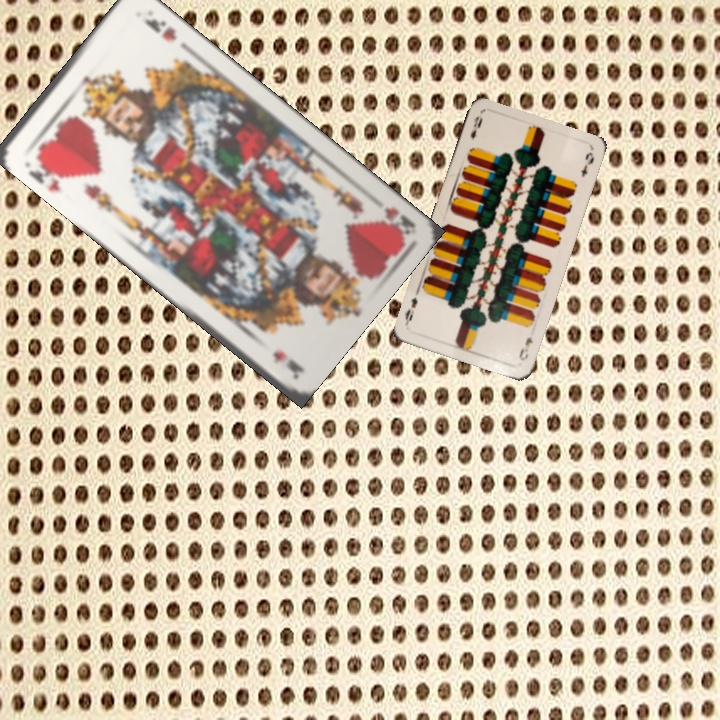E9: (515, 333, 535, 363), (466, 112, 485, 141)
HK: (24, 150, 71, 195), (377, 203, 417, 240)
